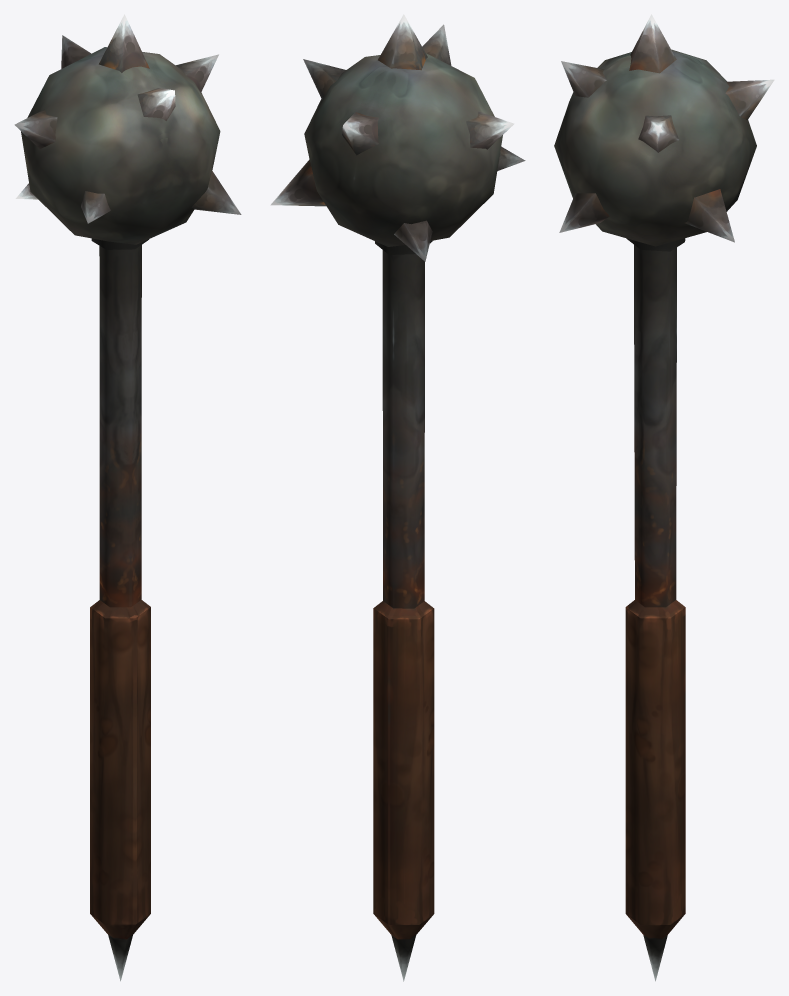
File: Mace01_mesh.FBX
3 renders of one model, left to right at view 1: azimuth 30°, elevation 25°; view 2: azimuth 150°, elevation 25°; view 3: azimuth 270°, elevation 25°, orthographic.
Parts seen in each view (by area): view 1: Mace01_mesh; view 2: Mace01_mesh; view 3: Mace01_mesh.
Boxes of the visible parts, x1,y1,x2,y2 form: Mace01_mesh: (14,14,241,981); Mace01_mesh: (270,14,525,981); Mace01_mesh: (554,14,774,981).
Bounding box in the file's own units: 8.91 × 39.54 × 8.16.
